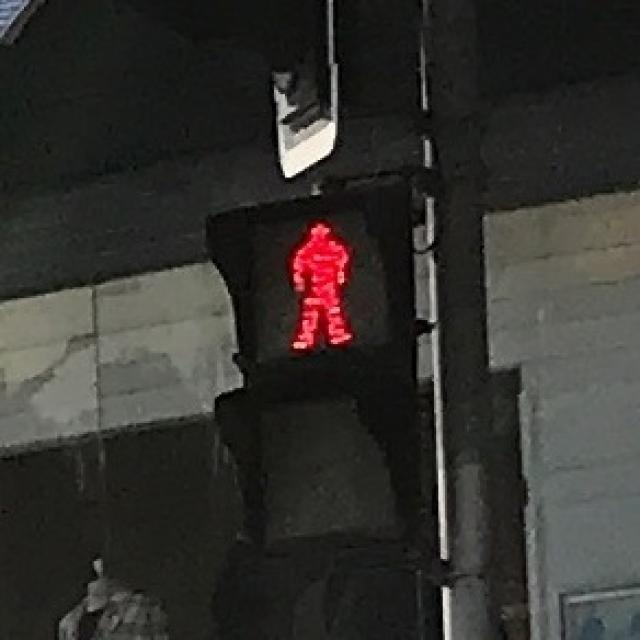red-crossing: (258, 206, 370, 357)
